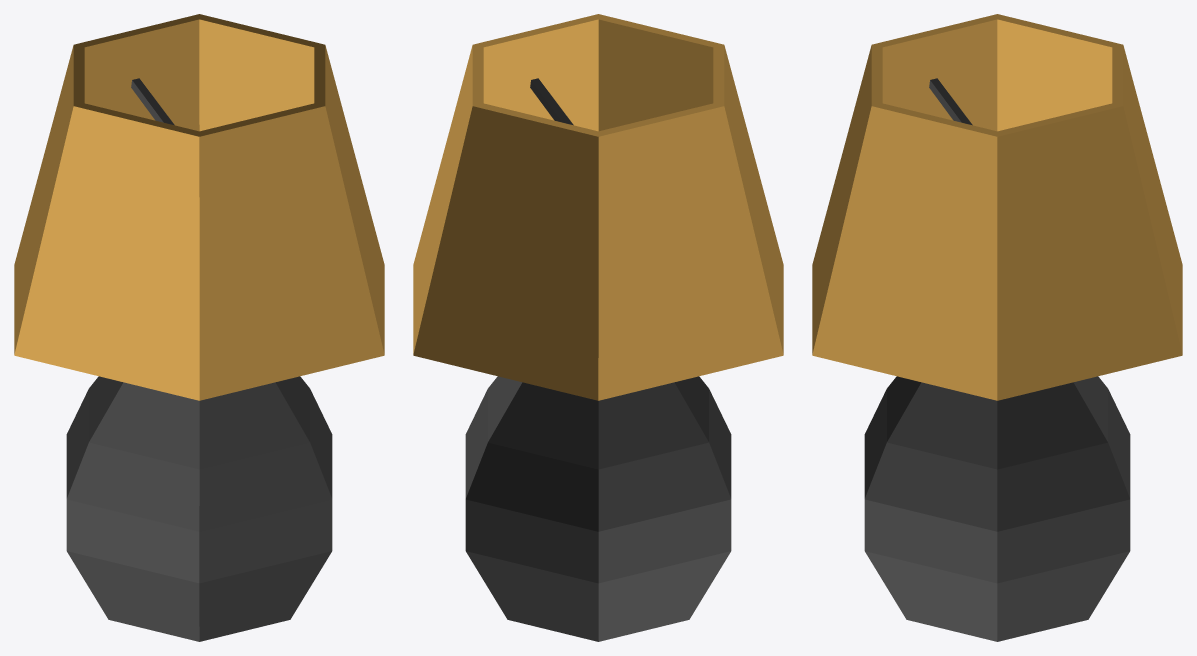
Rendered from Lamp 5.fbx.
3 renders of one model, left to right at view 1: azimuth 30°, elevation 25°; view 2: azimuth 150°, elevation 25°; view 3: azimuth 270°, elevation 25°, orthographic.
Visible parts, largest first — view 1: Lamp; view 2: Lamp; view 3: Lamp.
Boxes of the visible parts, x1,y1,x2,y2 form: Lamp: [14, 14, 384, 641]; Lamp: [413, 14, 783, 641]; Lamp: [812, 14, 1182, 641].
Bounding box in the file's own units: 0.3817 × 0.5935 × 0.4407.
